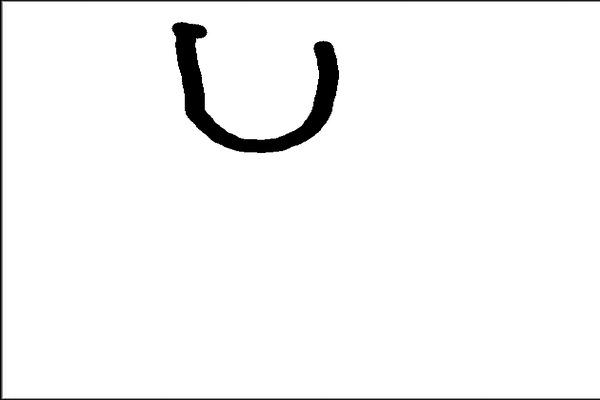U: (151, 11, 357, 158)
